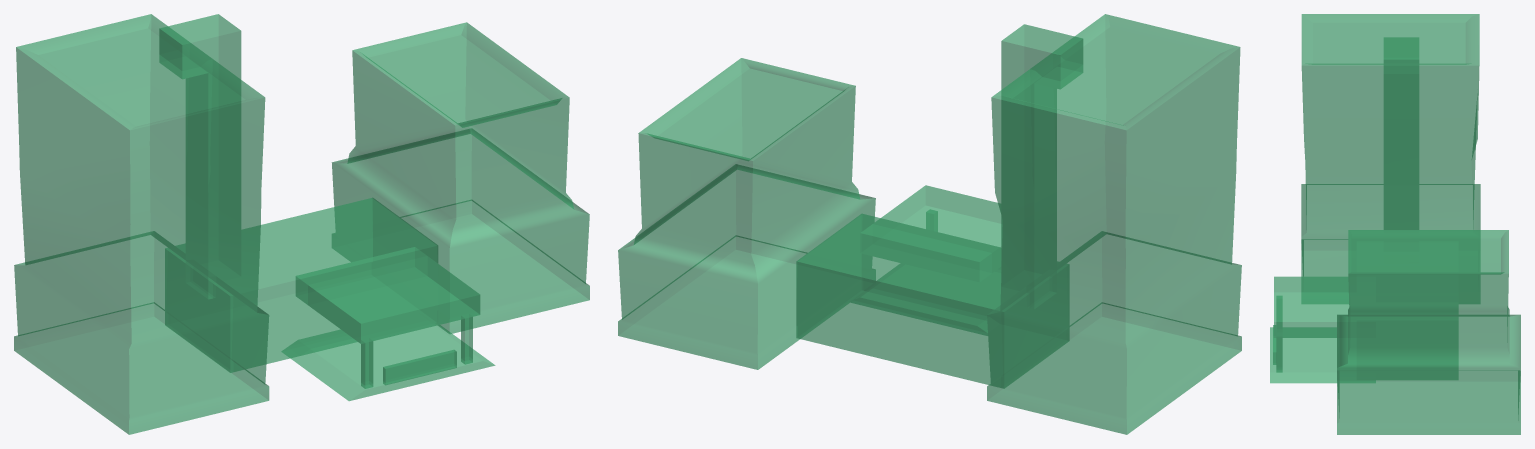
File: SA_Bld_HospitalBuildingMain_01_Collider.fbx
3 views of the same model, side by side, from view 1: azimuth 30°, elevation 25°; view 2: azimuth 150°, elevation 25°; view 3: azimuth 270°, elevation 25° (orthographic). The views are drawn at different scales.
Parts seen in each view (by area): view 1: SA_Bld_HospitalBuildingMain_01_Collider; view 2: SA_Bld_HospitalBuildingMain_01_Collider; view 3: SA_Bld_HospitalBuildingMain_01_Collider.
Part boxes in pixels (x1=…): SA_Bld_HospitalBuildingMain_01_Collider: x1=14, y1=14, x2=589, y2=434; SA_Bld_HospitalBuildingMain_01_Collider: x1=618, y1=14, x2=1241, y2=434; SA_Bld_HospitalBuildingMain_01_Collider: x1=1270, y1=14, x2=1520, y2=434.
Size of the model in its own units: 64.25 by 41.38 by 36.99.
